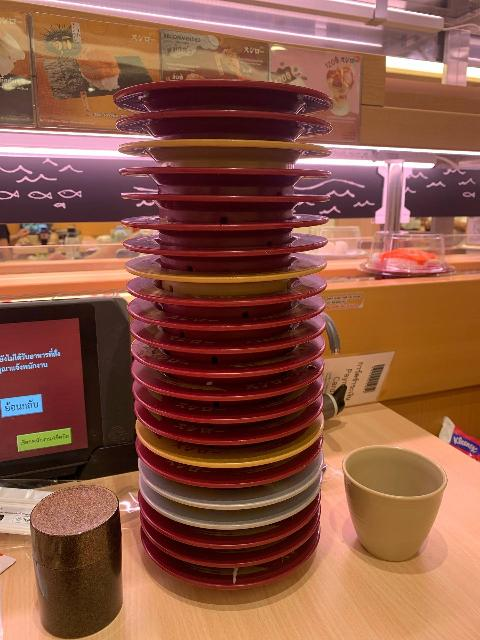jangold: (114, 137, 334, 171), (128, 256, 329, 292), (133, 440, 308, 478)
janred: (110, 91, 338, 136), (118, 176, 340, 213), (106, 154, 347, 188), (116, 68, 349, 103), (107, 303, 359, 335), (140, 561, 316, 600), (129, 399, 321, 434), (133, 412, 320, 447), (109, 230, 356, 256), (130, 284, 361, 311), (119, 214, 347, 240), (140, 461, 316, 494), (128, 331, 340, 356), (127, 358, 324, 383), (139, 527, 336, 550), (119, 386, 331, 405), (150, 549, 309, 572), (364, 244, 444, 283)
janwhite: (134, 476, 322, 514), (114, 501, 344, 518)
